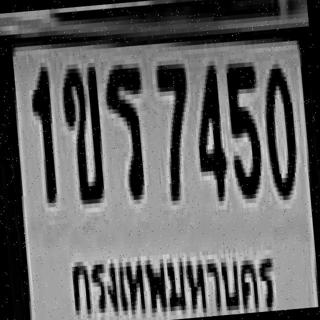A02: (59, 63, 105, 201)
A35: (101, 59, 150, 197)
N00: (259, 58, 298, 196)
N01: (26, 62, 57, 199)
N04: (190, 61, 227, 198)
N05: (224, 57, 264, 195)
N07: (154, 59, 194, 197)
P04: (66, 233, 282, 320)
